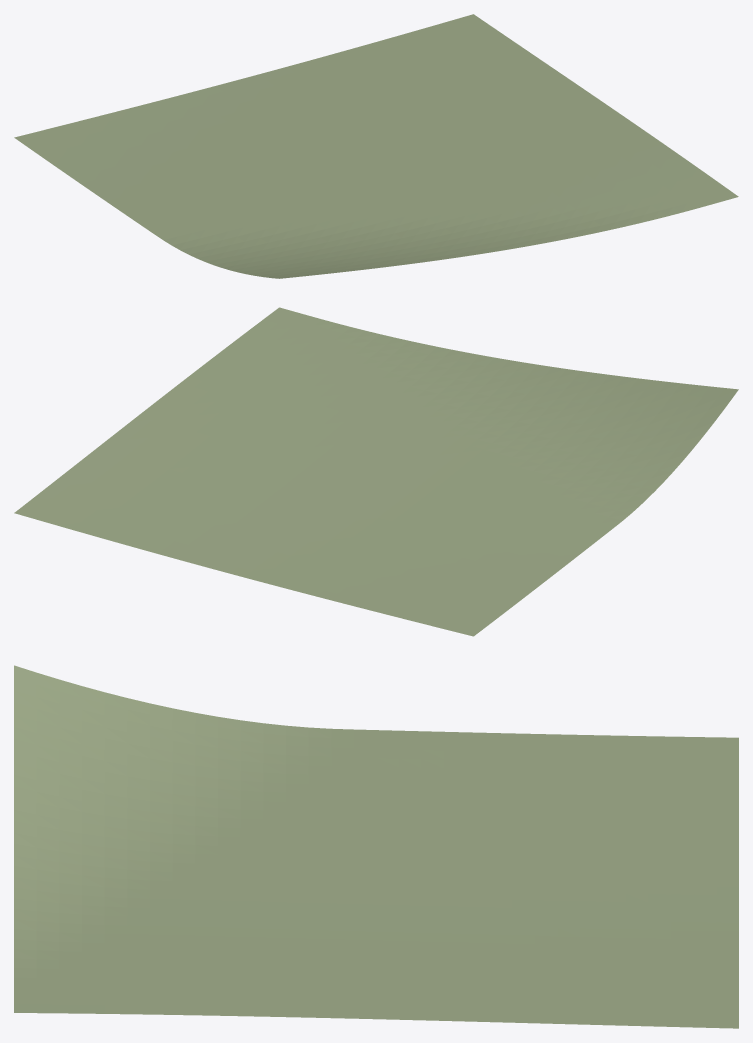
File: expanse-22-1.glb
The picture shows the model from 3 angles, top to bottom: view 1: azimuth 30°, elevation 25°; view 2: azimuth 150°, elevation 25°; view 3: azimuth 270°, elevation 25°; orthographic projection. The views are drawn at different scales.
Visible parts, largest first — view 1: expanse-22-1; view 2: expanse-22-1; view 3: expanse-22-1.
Boxes of the visible parts, x1=… form: expanse-22-1: x1=14, y1=14, x2=738, y2=278; expanse-22-1: x1=14, y1=307, x2=738, y2=636; expanse-22-1: x1=14, y1=665, x2=738, y2=1028.
Bounding box in the file's own units: 256 × 28.18 × 256.
